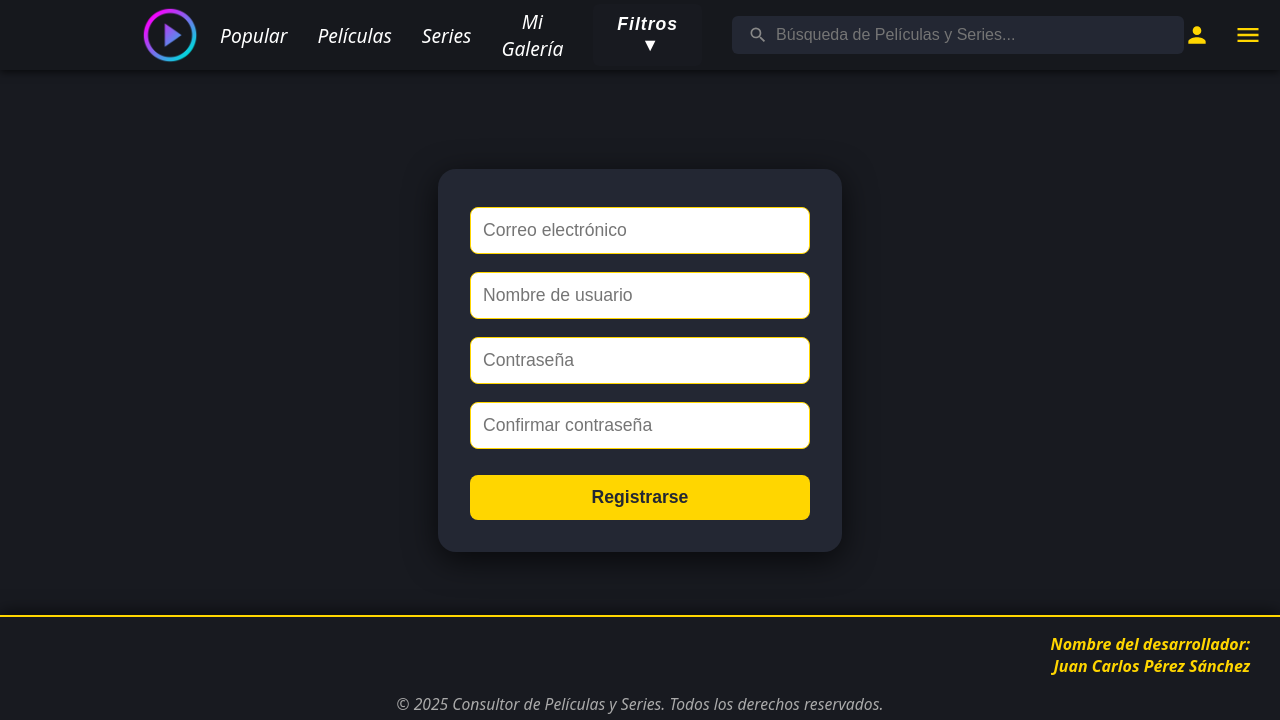
Test: muestra error si las contraseñas no coinciden en registro
Type "test@mail.com" into the field with placeholder "Correo electrónico" at [640, 230], box x1=470 y1=206 x2=810 y2=254
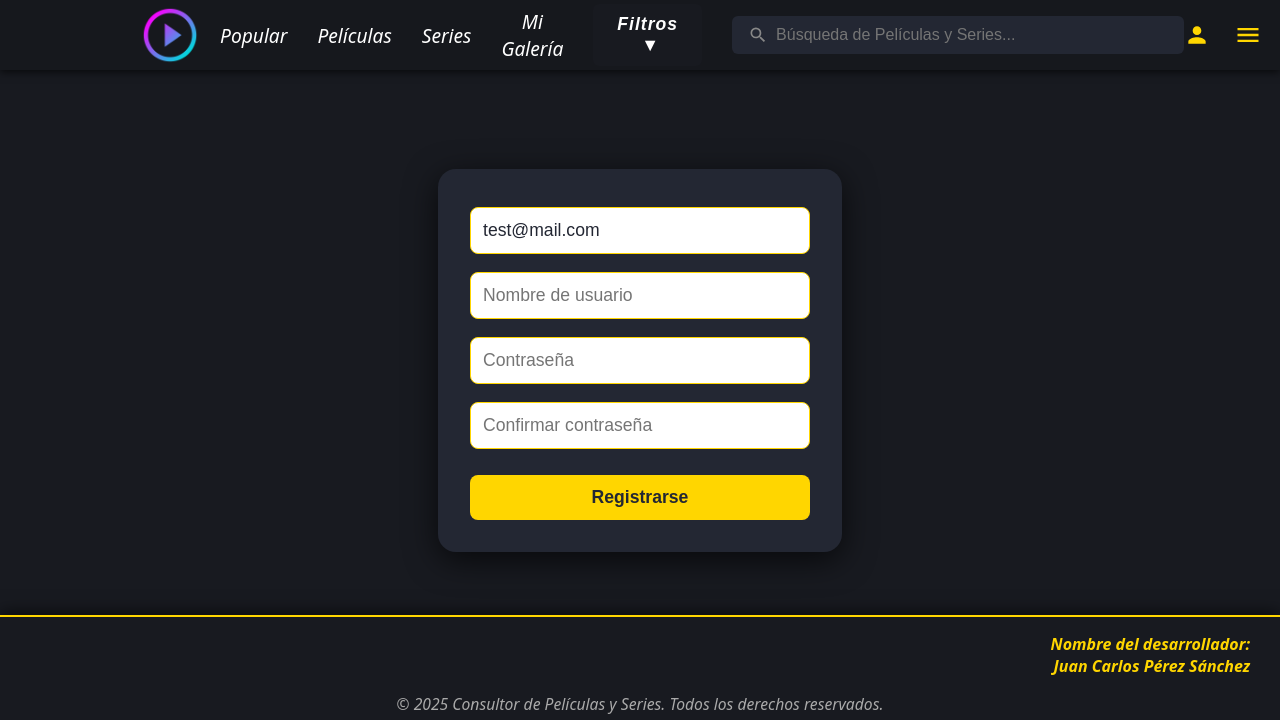
Type "usuario" into the field with placeholder "Nombre de usuario" at [640, 295], box x1=470 y1=272 x2=810 y2=318
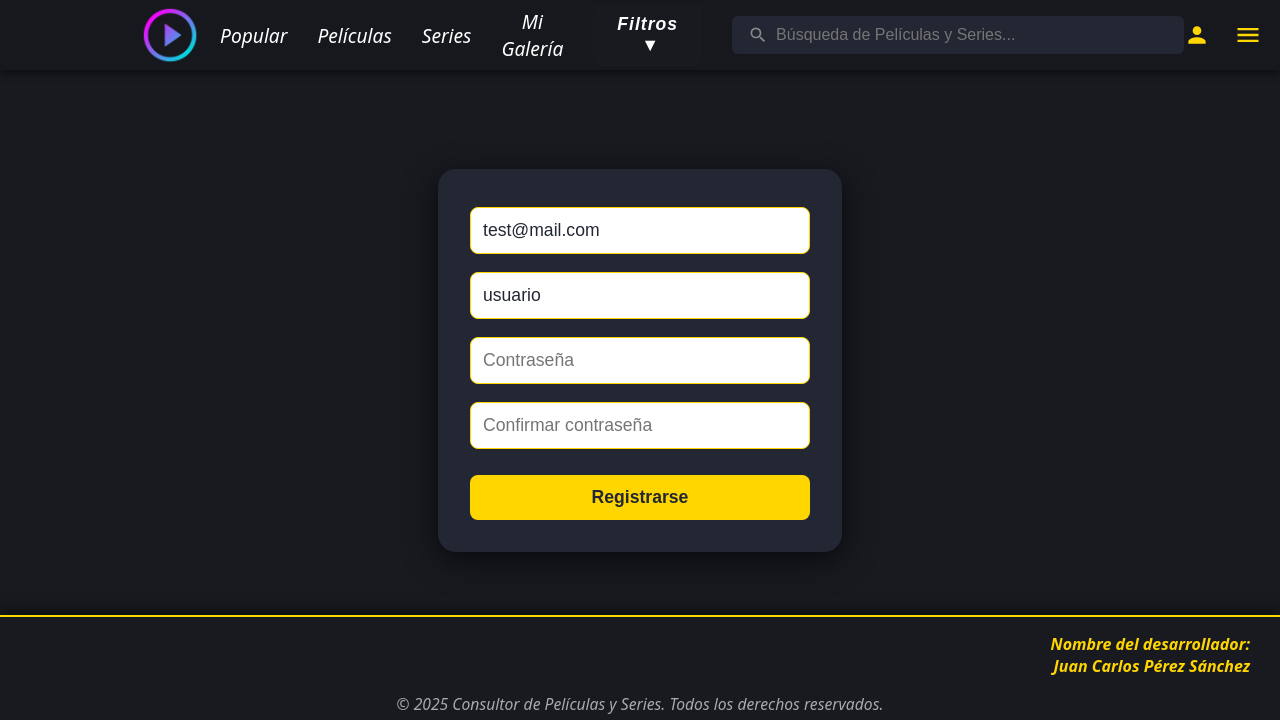
Type "123456" into the password field with placeholder "Contraseña" at [640, 360], box x1=470 y1=336 x2=810 y2=384
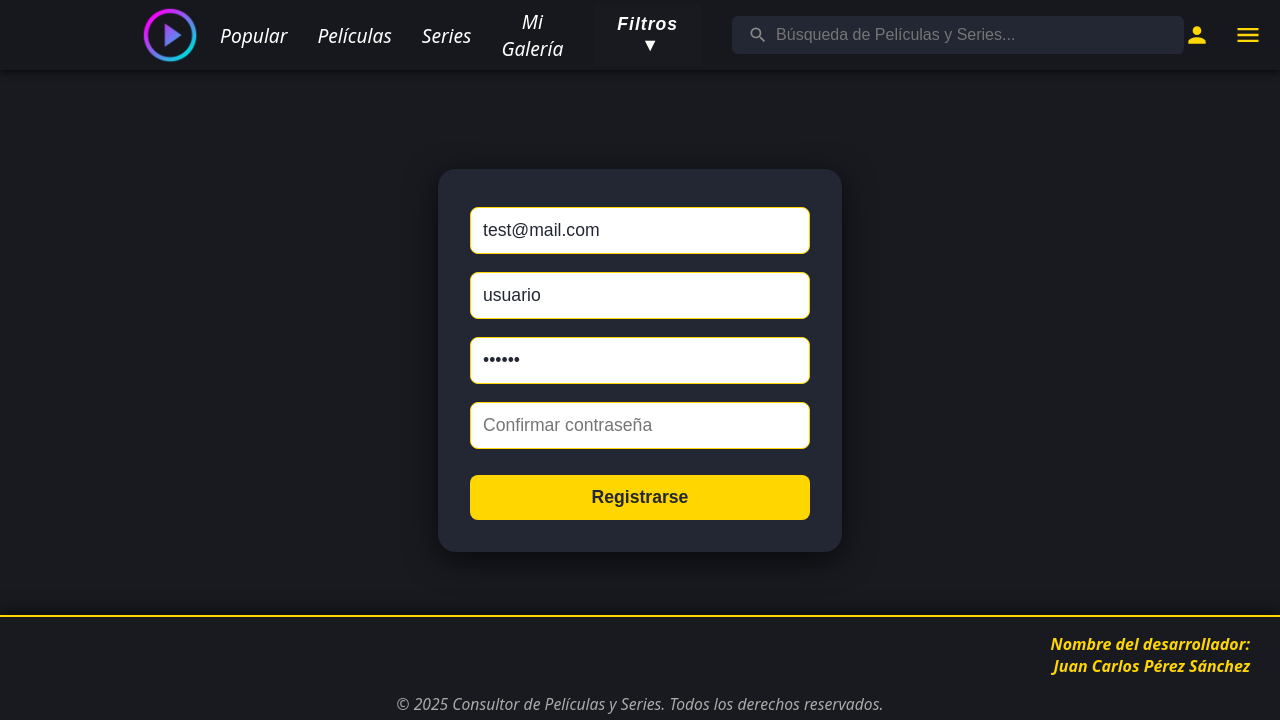
Type "654321" into the password field with placeholder "Confirmar contraseña" at [640, 425], box x1=470 y1=402 x2=810 y2=448
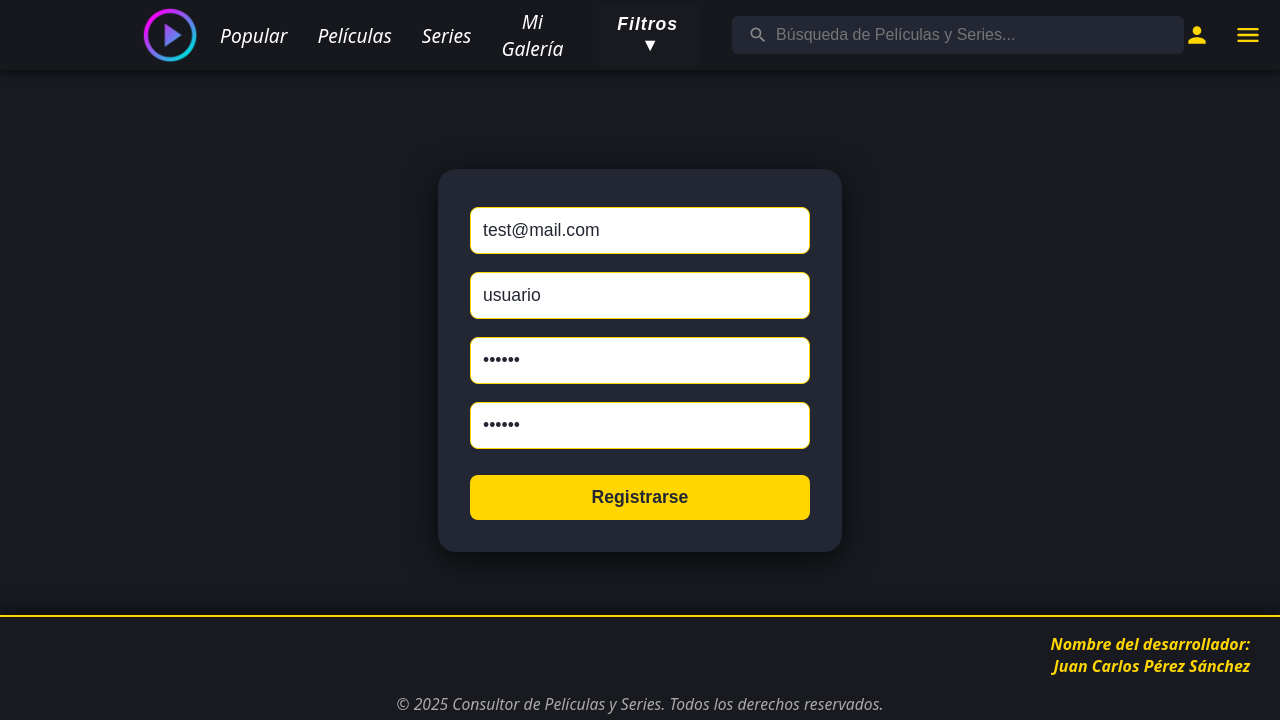
Click the button "Registrarse" at [640, 497], box x1=470 y1=474 x2=810 y2=520
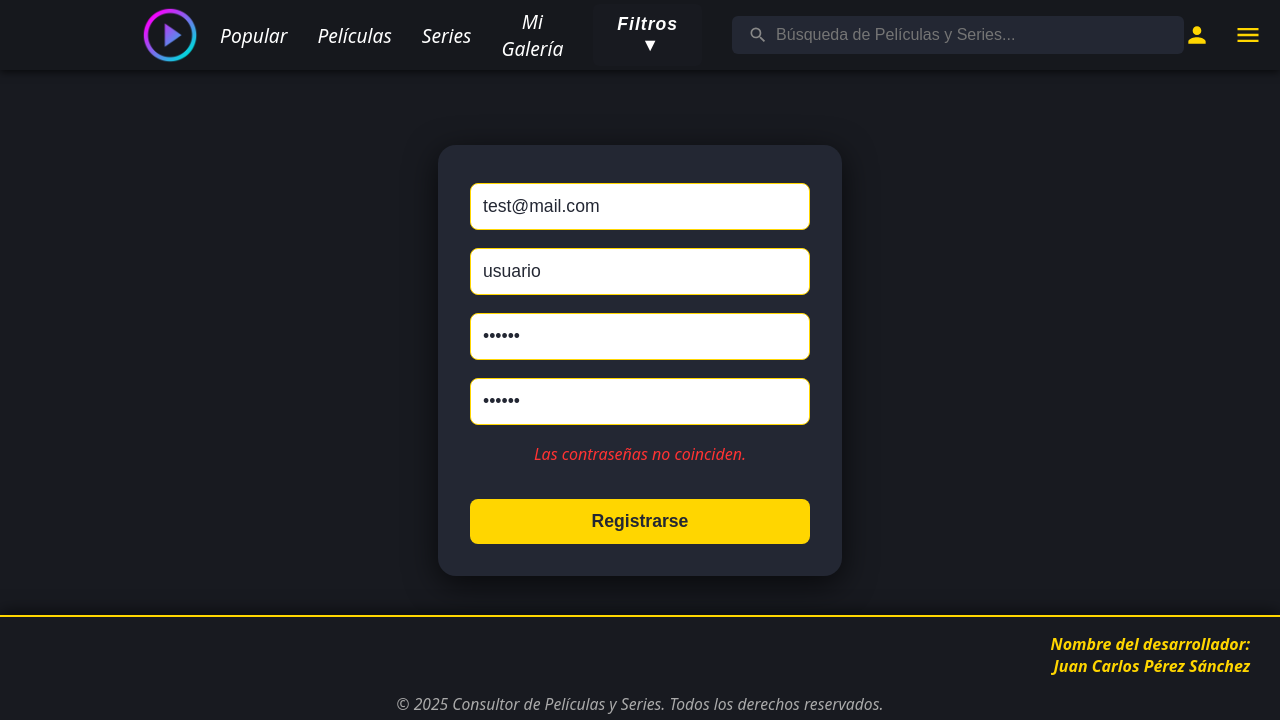
Result: the text "Las contraseñas no coinciden." is shown at x1=534 y1=442 x2=746 y2=464
